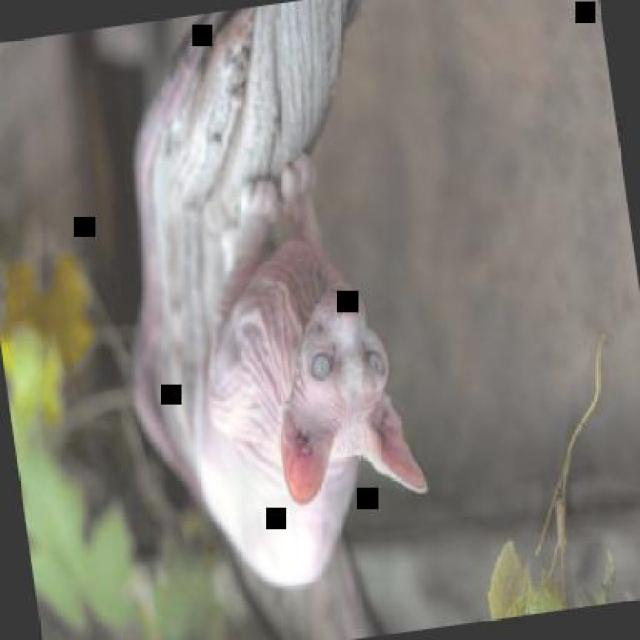cat: (153, 142, 439, 598)
